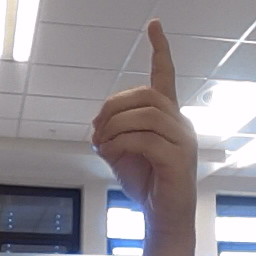D: (87, 15, 209, 211)
